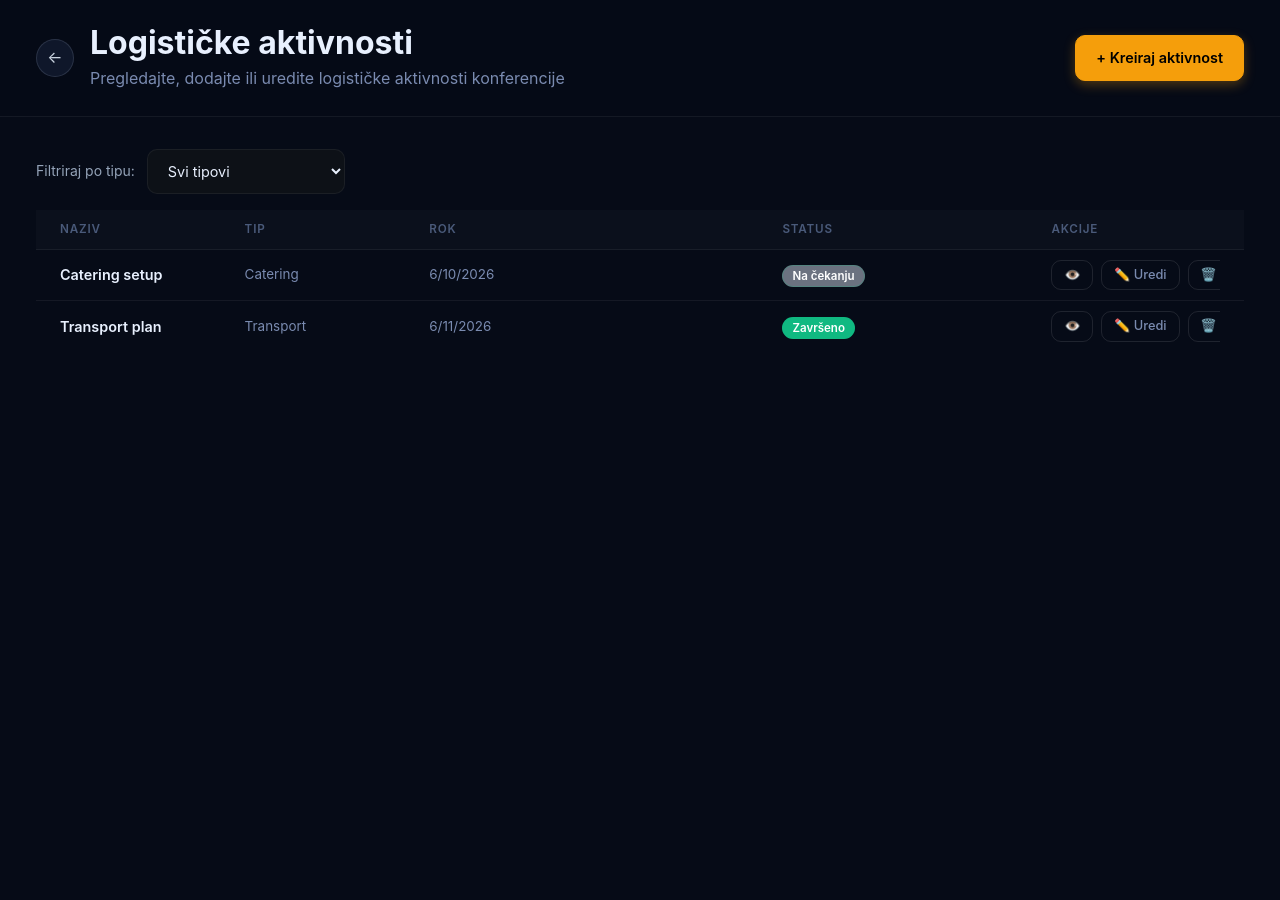
Test: LogisticsPage › greska pri kreiranju prikazuje error poruku u formi
Check: the text "Catering setup" is shown, box x1=60 y1=266 x2=163 y2=283
Click the button "+ Kreiraj aktivnost" at (1160, 58), box x1=1075 y1=36 x2=1244 y2=80
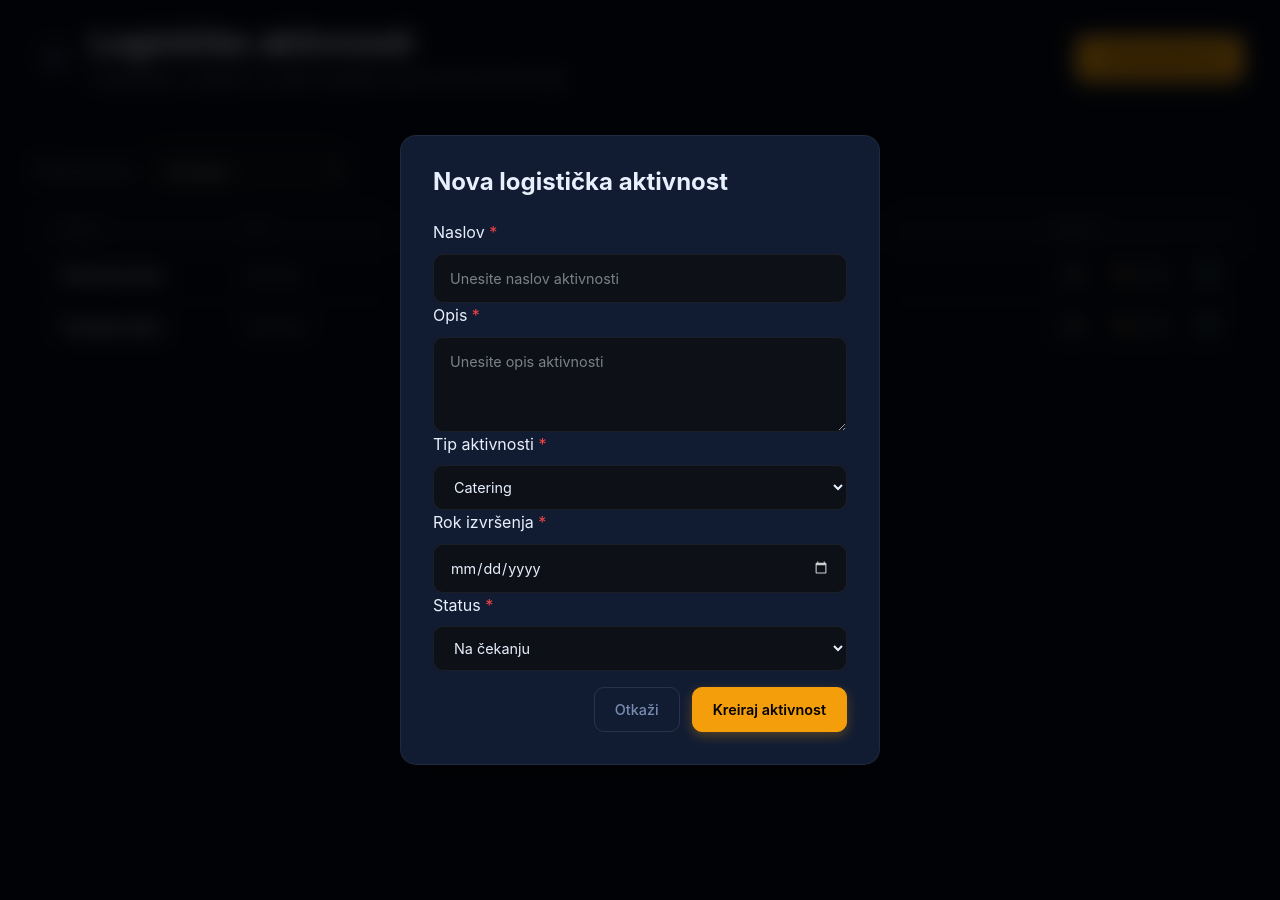
Check: the heading "Nova logistička aktivnost" is shown, box x1=433 y1=166 x2=728 y2=196
Check: the element with placeholder "Unesite naslov aktivnosti" is shown, box x1=400 y1=134 x2=880 y2=765
Check: the date field is shown, box x1=433 y1=544 x2=847 y2=593
Type "Transport check" into the field with placeholder "Unesite naslov aktivnosti" at (640, 278), box x1=433 y1=254 x2=847 y2=303
Type "Confirm vehicles" into the text box with placeholder "Unesite opis aktivnosti" at (640, 384), box x1=433 y1=336 x2=847 y2=432
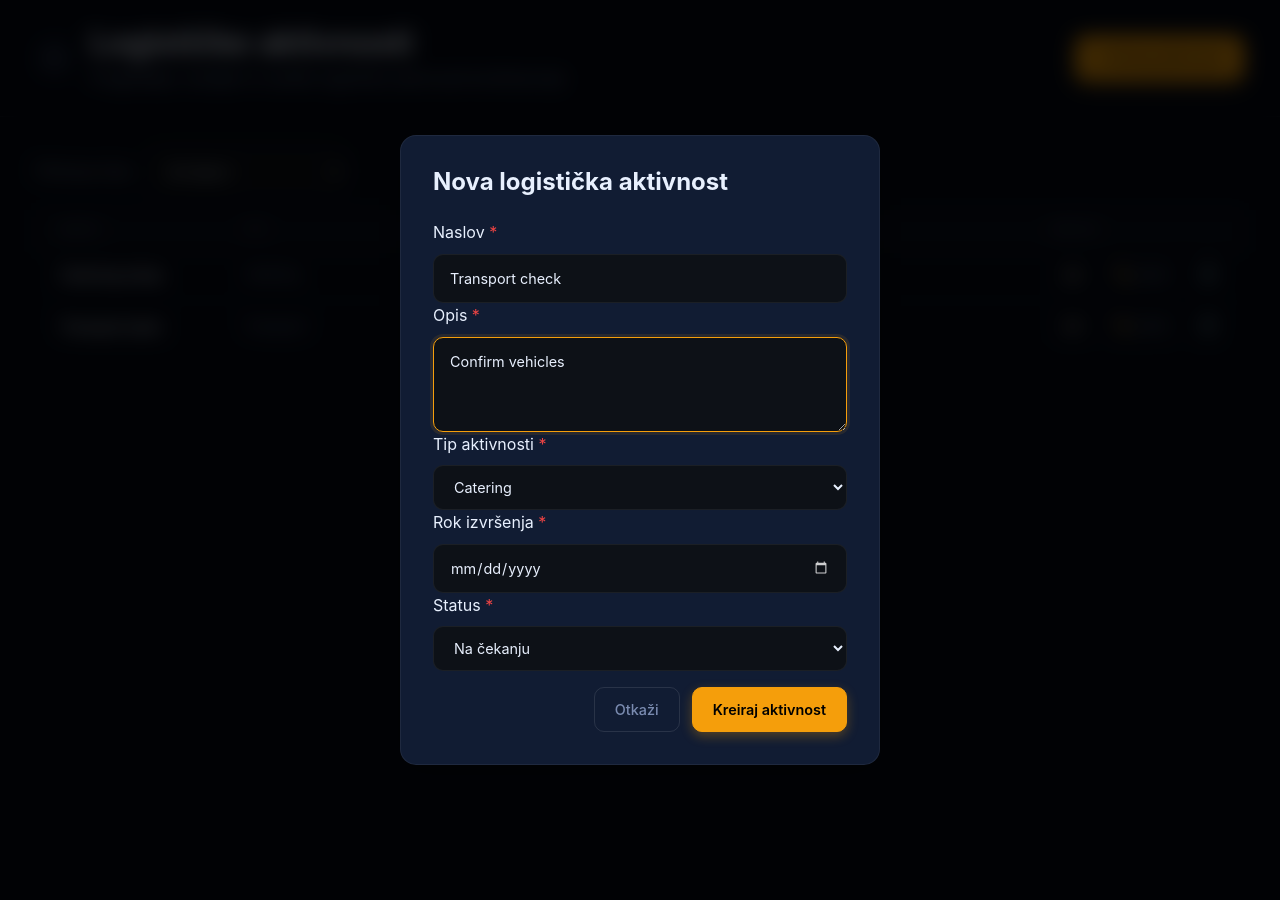
Select "Transport" in the dropdown below "Tip aktivnosti" at (640, 488), box x1=433 y1=465 x2=847 y2=510
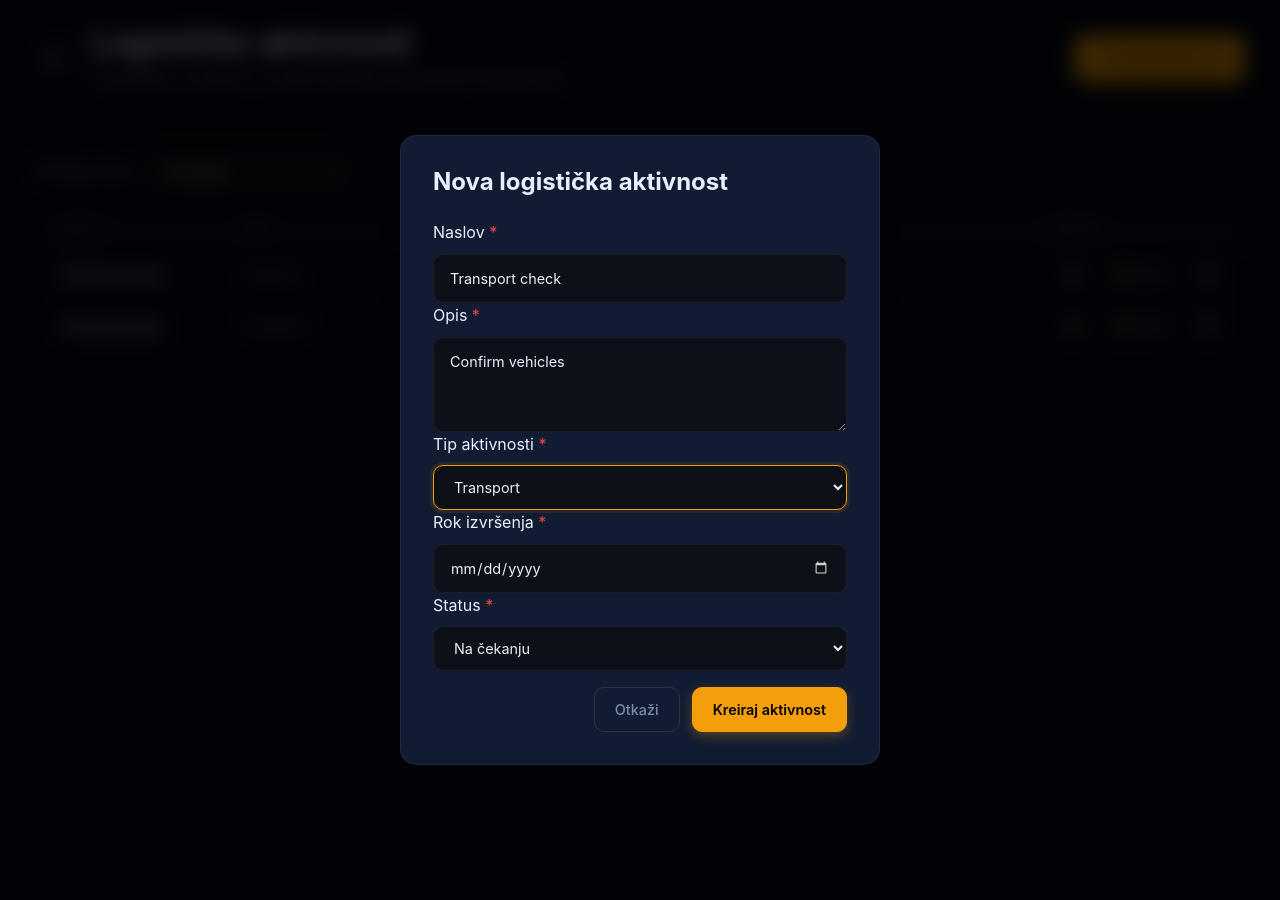
Select "U toku" in the 2nd dropdown at (640, 649), box x1=433 y1=626 x2=847 y2=671
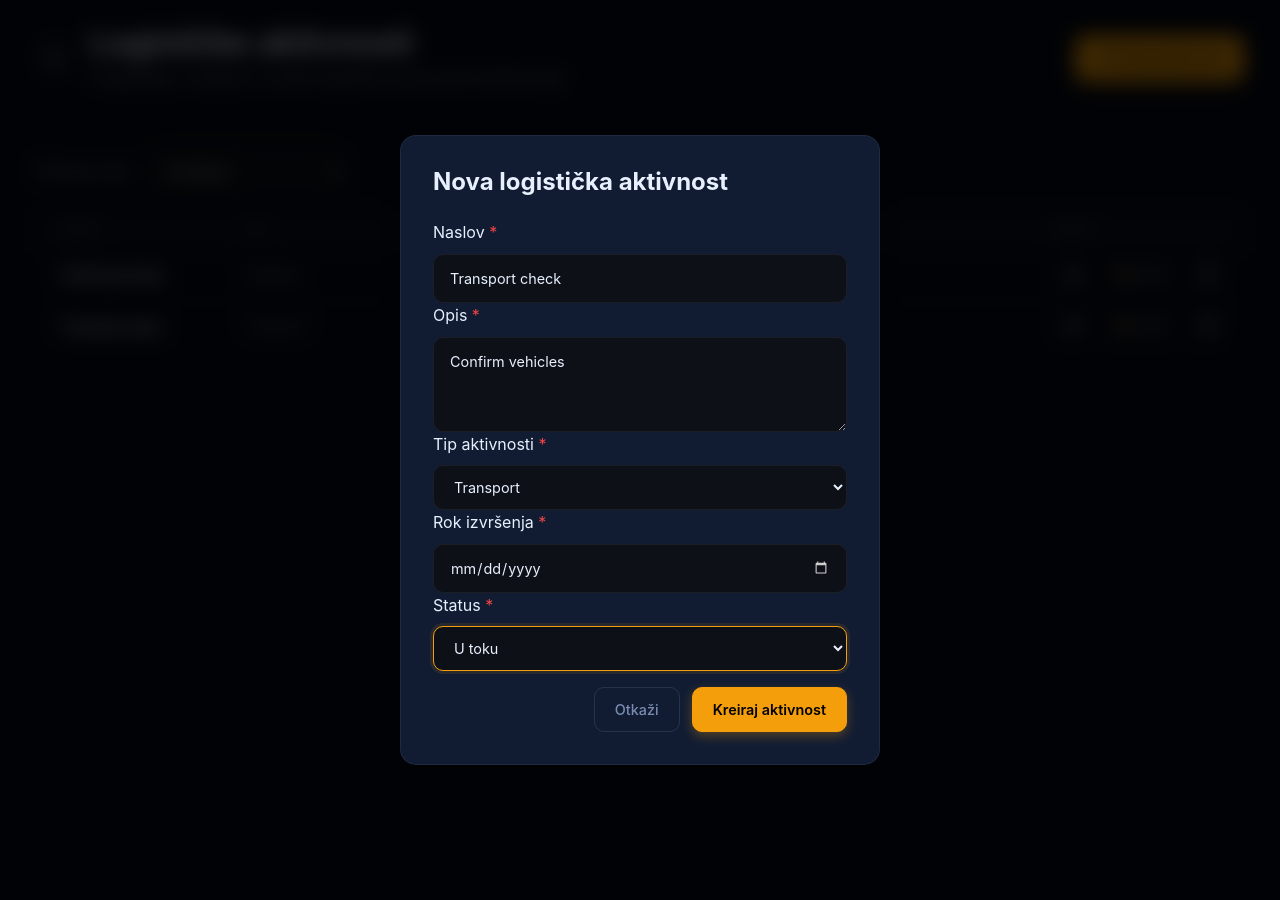
Type "2026-06-20" into the date field at (640, 568), box x1=433 y1=544 x2=847 y2=593
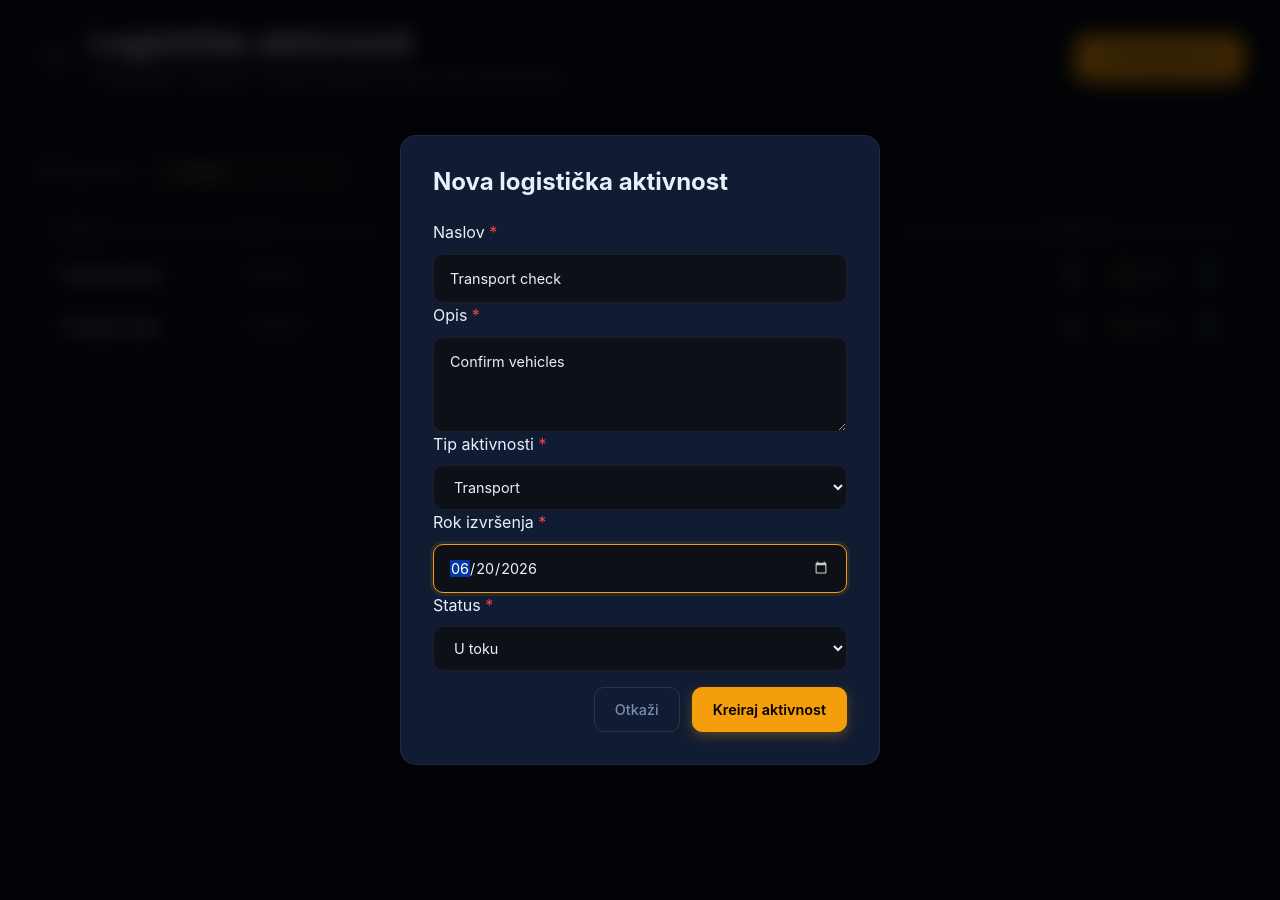
Click the button "Kreiraj aktivnost" at (769, 710), box x1=692 y1=687 x2=847 y2=732
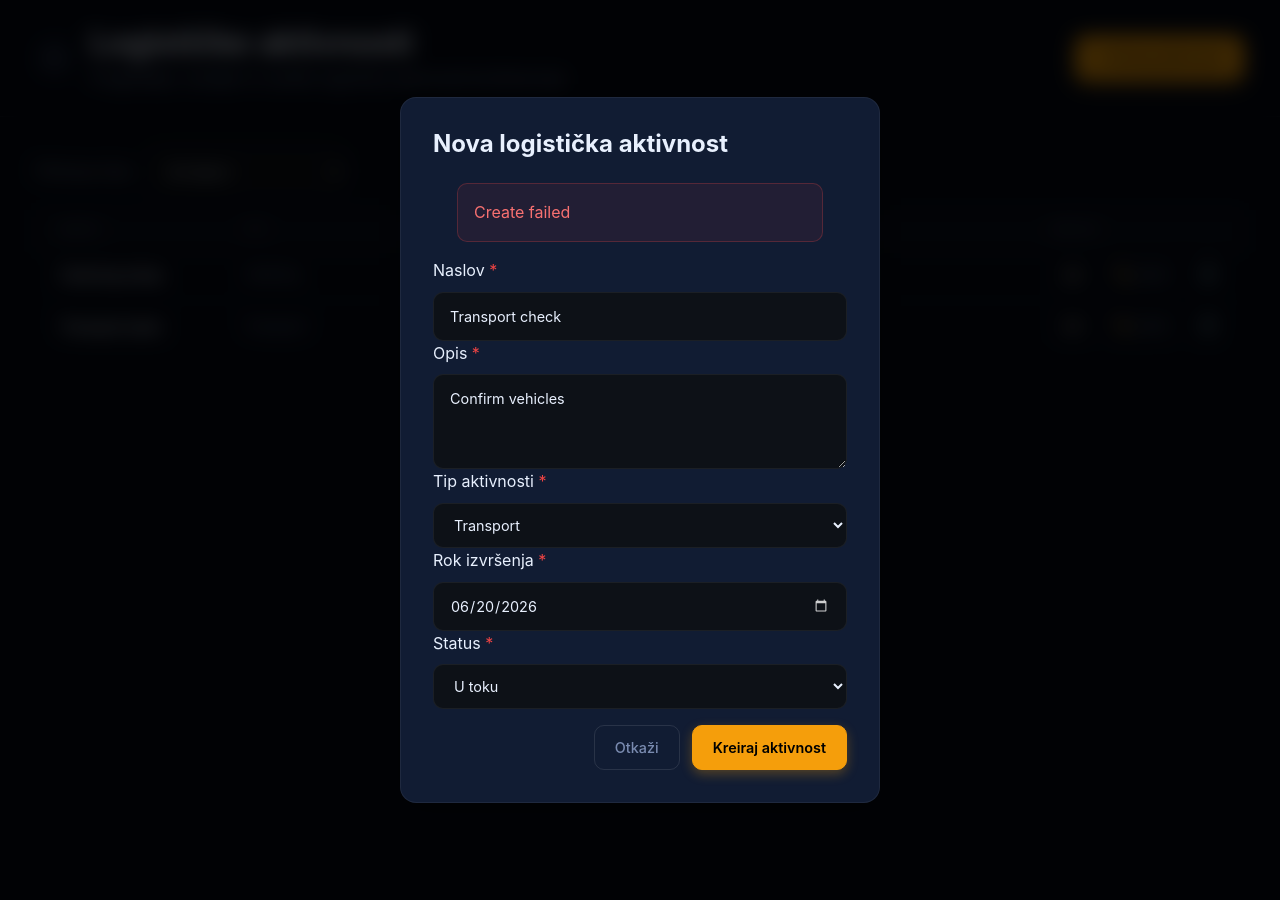
Check: the text "Create failed" is shown, box x1=457 y1=182 x2=823 y2=242
